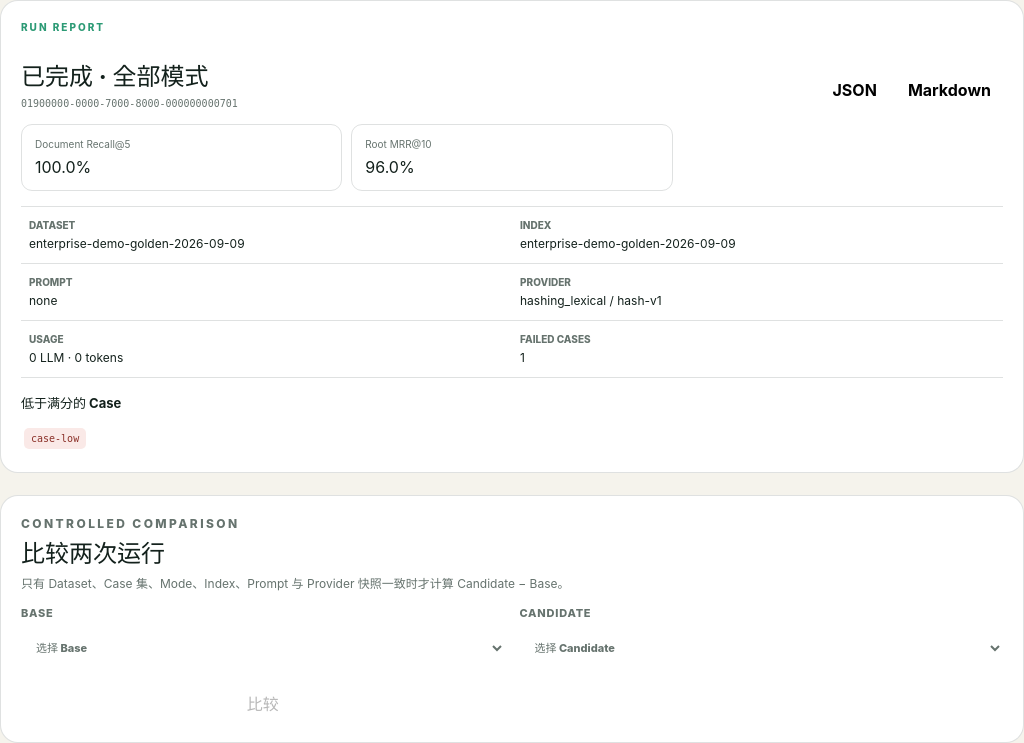
Test case: evaluation workspace › renders stable reasons instead of deltas for incomparable runs
(page scrolled)
Select "01900000-0 · 全部模式" in the dropdown labelled "Base": (263, 648) [21, 627, 504, 669]
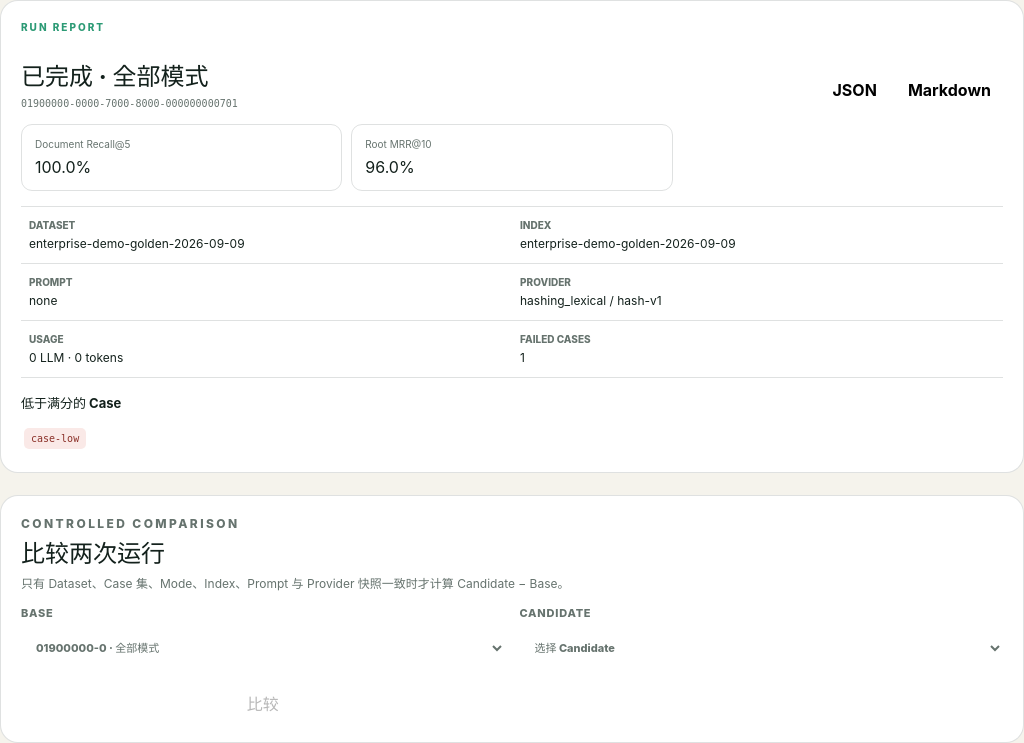
Select "01900000-0 · 全部模式" in the dropdown labelled "Candidate": (761, 648) [520, 627, 1003, 669]
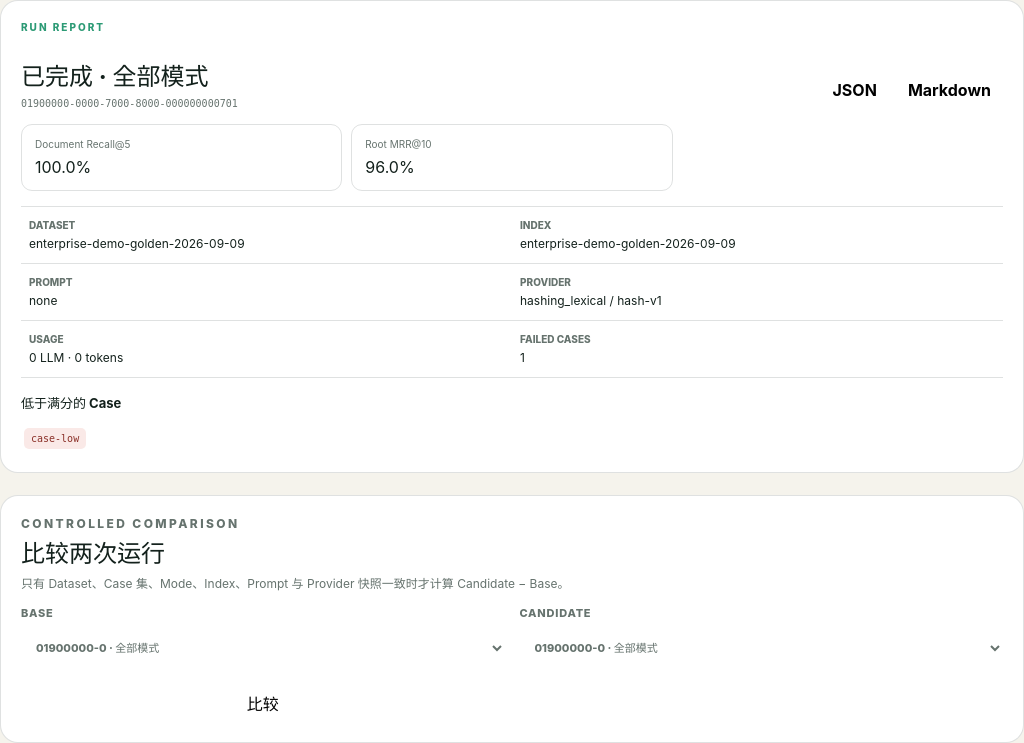
Click the button "比较": click(263, 703) [21, 684, 504, 722]
(page scrolled)
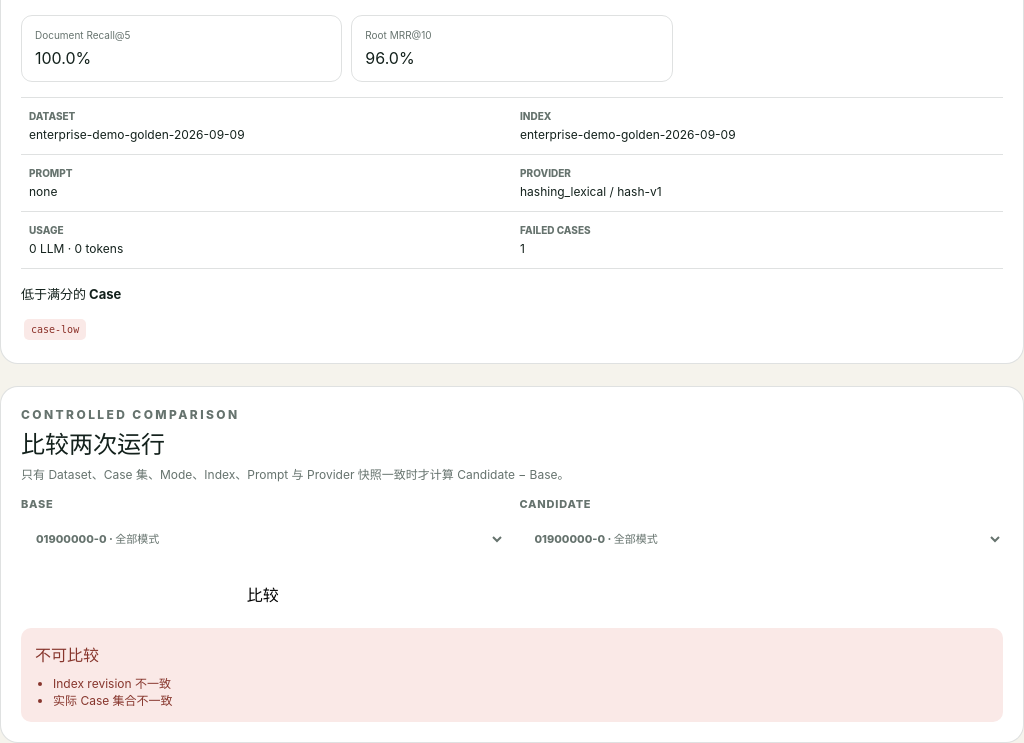
Now the element with class "comparison-result--blocked" shows "Index revision 不一致", box [53, 676, 171, 691]
Now the element with class "comparison-result--blocked" shows "实际 Case 集合不一致", box [53, 693, 173, 708]
